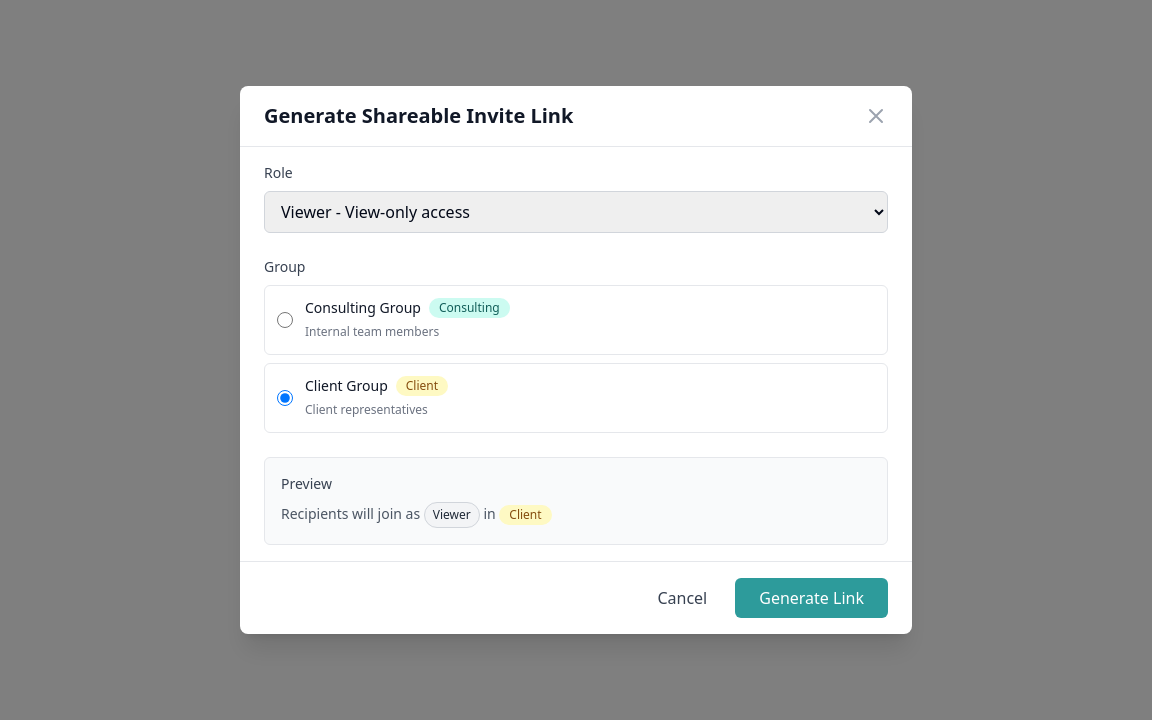
Test case: GenerateLinkModal › should show loading state while generating link
Click the button with test id "generate-button" at (812, 598), box x1=735 y1=578 x2=888 y2=618
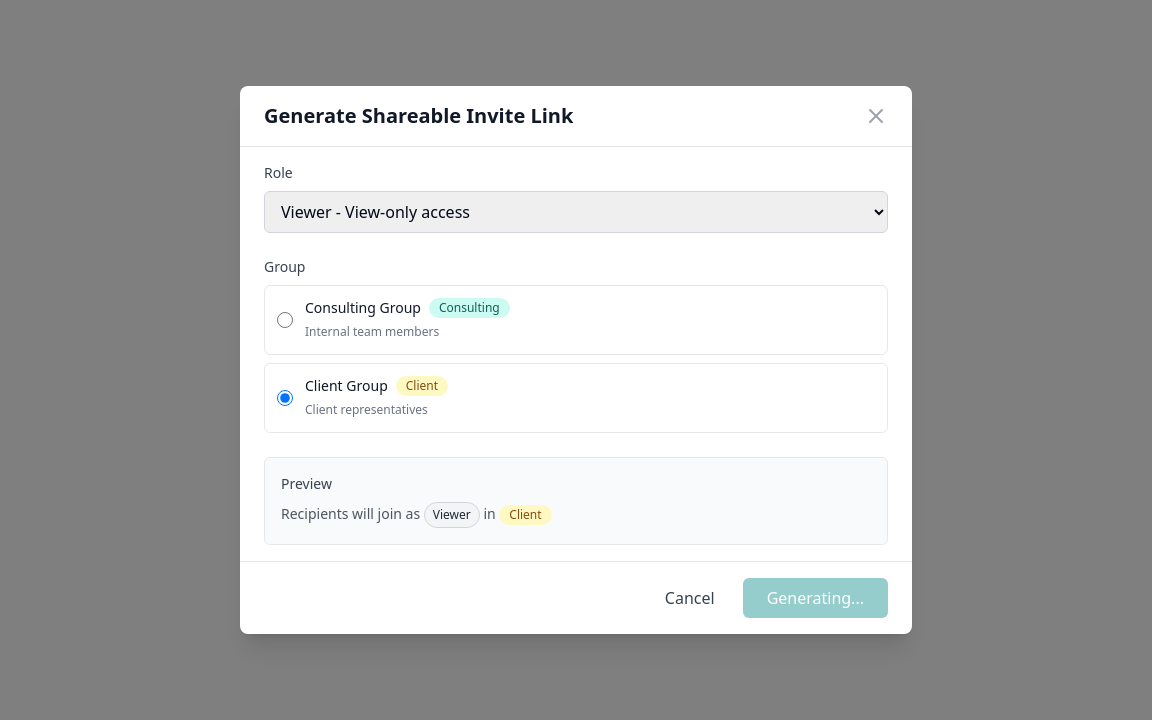
Expected: the button "Generating..." is disabled, x1=743 y1=578 x2=888 y2=618
